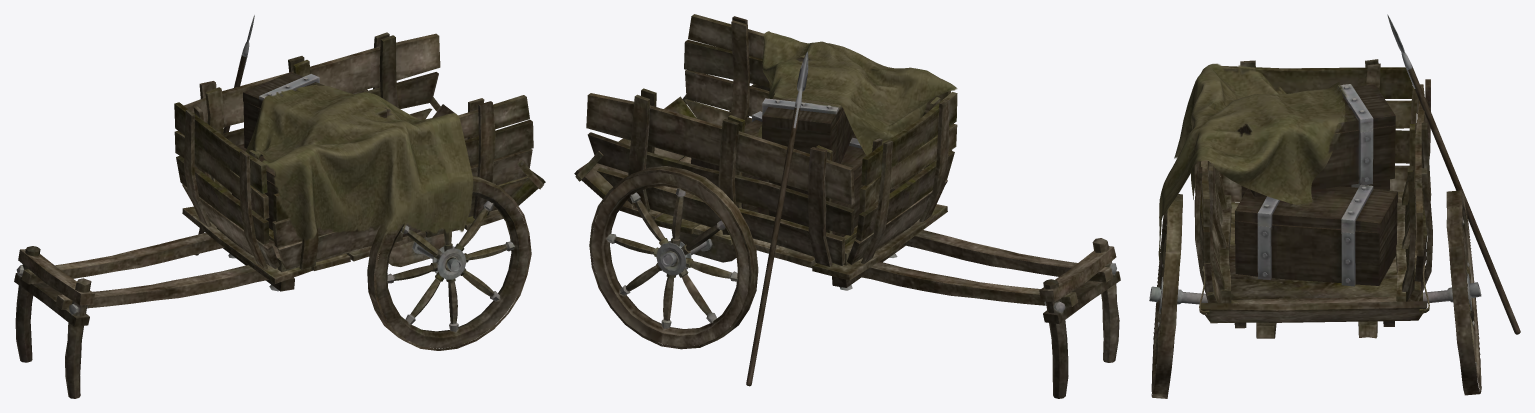
Rendered from cart.glb.
3 renders of one model, left to right at view 1: azimuth 30°, elevation 25°; view 2: azimuth 150°, elevation 25°; view 3: azimuth 270°, elevation 25°, orthographic. The views are drawn at different scales.
Parts seen in each view (by area): view 1: defaultMaterial; view 2: defaultMaterial; view 3: defaultMaterial.
Part boxes in pixels (box(x1,y1,x2,y2)): defaultMaterial: box(14, 15, 545, 398); defaultMaterial: box(574, 14, 1120, 398); defaultMaterial: box(1149, 14, 1520, 398).
Bounding box in the file's own units: 2 × 1.19 × 1.25.
Materials: 1 (1 with a texture image).
